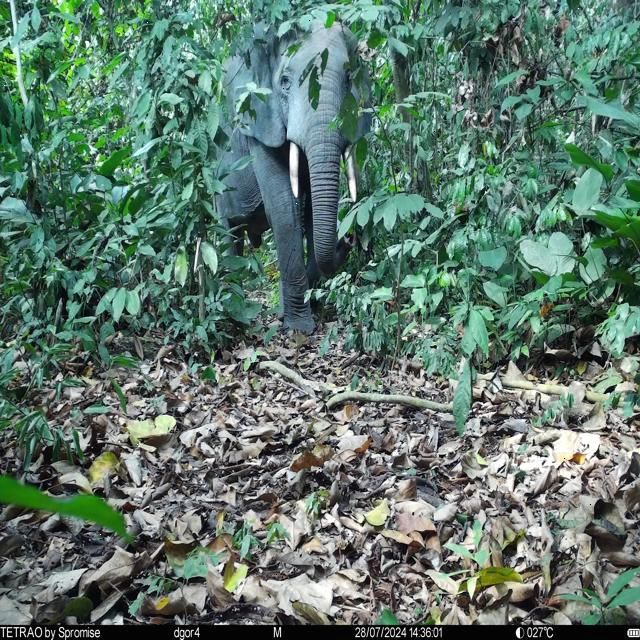ear: (220, 42, 286, 148)
elephant: (214, 42, 372, 335)
tusk: (343, 146, 357, 204), (288, 140, 298, 198)
